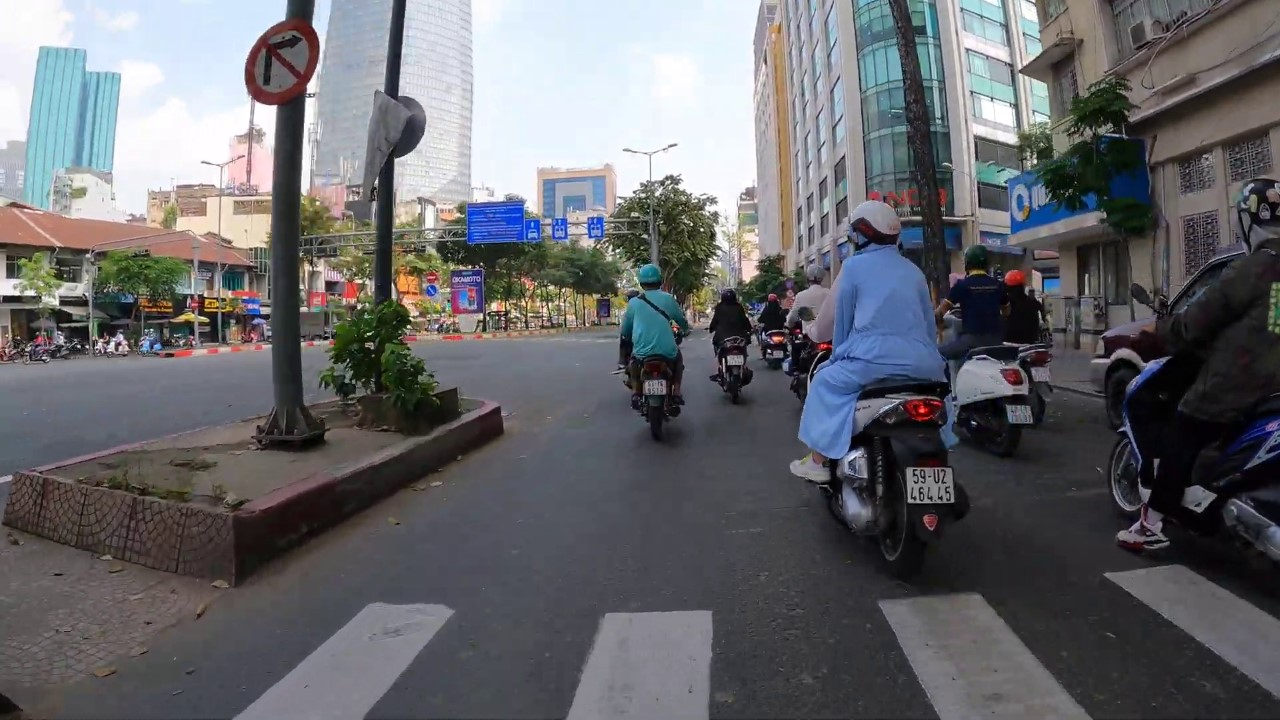cam_re_phai: (243, 18, 320, 108)
